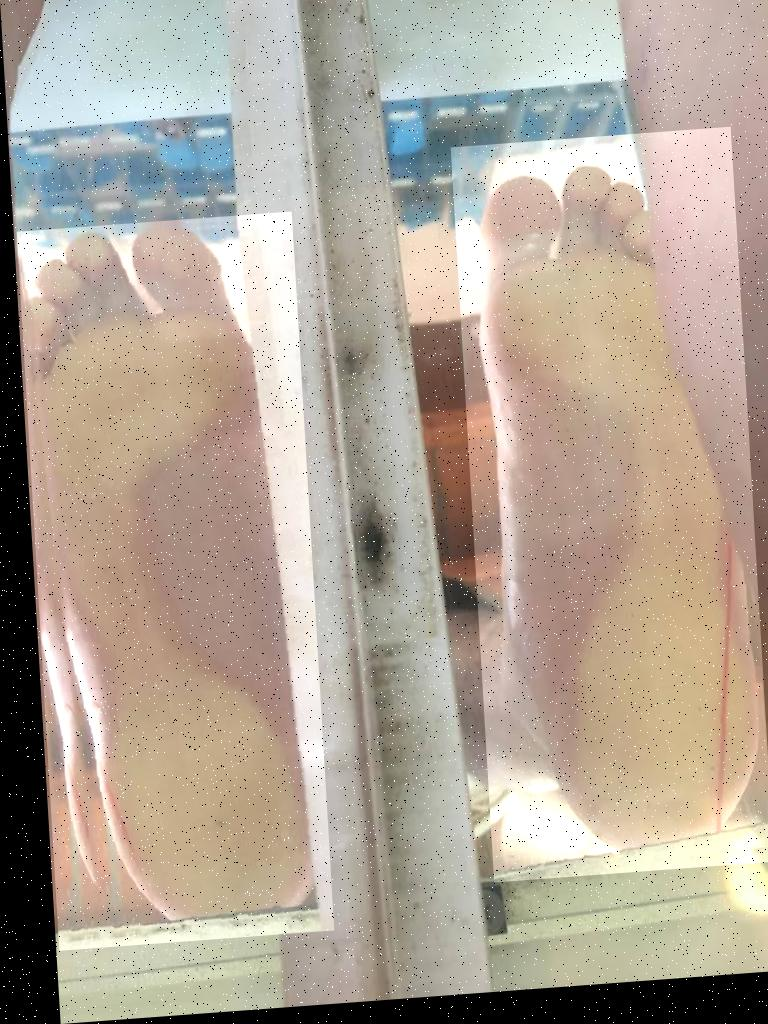9: (449, 139, 765, 891)
Present: (14, 217, 323, 953)
